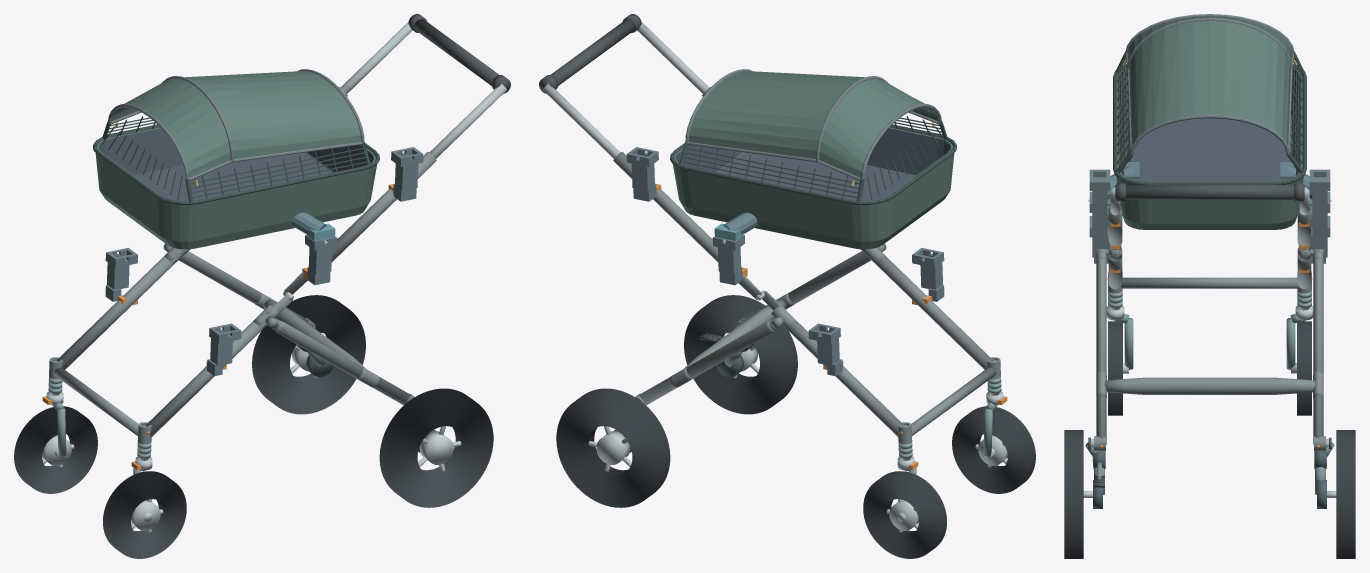
Rendered from S03_w550_state1_wheel_M.glb.
3 views of the same model, side by side, from view 1: azimuth 30°, elevation 25°; view 2: azimuth 150°, elevation 25°; view 3: azimuth 270°, elevation 25° (orthographic). The views are drawn at different scales.
Parts seen in each view (by area): view 1: S03_Cabin, RL_tire.002, RR_tire.002, FL_tire.002, FR_tire.002, main_lower_1.003, V46_rear_leg_-1.003, main_lower_-1.003, round_handle.002, main_upper_-1.003, Universal_Cabin_Receiver_H_-1, V46_rear_leg_1.003 (+10 smaller); view 2: S03_Cabin, RR_tire.002, RL_tire.002, FR_tire.002, FL_tire.002, main_lower_-1.003, V46_rear_leg_1.003, main_lower_1.003, round_handle.002, main_upper_1.003, Universal_Cabin_Receiver_H_1, V46_rear_leg_-1.003 (+10 smaller); view 3: S03_Cabin, V46_rearbar.003, RL_tire.002, round_handle.002, RR_tire.002, front_fixed_round_tube.002, V46_rear_leg_1.003, V46_rear_leg_-1.003, FL_tire.002, FR_tire.002, Universal_Cabin_Receiver_H_1, Universal_Cabin_Receiver_H_-1 (+9 smaller).
Part boxes in pixels (bbox=[...]): S03_Cabin: bbox=[93, 69, 379, 249]; RL_tire.002: bbox=[379, 388, 493, 507]; RR_tire.002: bbox=[252, 295, 365, 414]; FL_tire.002: bbox=[103, 471, 186, 558]; FR_tire.002: bbox=[14, 406, 97, 493]; main_lower_1.003: bbox=[56, 253, 181, 369]; V46_rear_leg_-1.003: bbox=[274, 320, 411, 405]; main_lower_-1.003: bbox=[145, 321, 265, 437]; round_handle.002: bbox=[414, 19, 509, 92]; main_upper_-1.003: bbox=[307, 152, 436, 268]; Universal_Cabin_Receiver_H_-1: bbox=[391, 147, 423, 201]; V46_rear_leg_1.003: bbox=[179, 251, 311, 325]; S03_Cabin: bbox=[670, 69, 956, 249]; RR_tire.002: bbox=[556, 388, 670, 507]; RL_tire.002: bbox=[684, 295, 797, 414]; FR_tire.002: bbox=[863, 471, 946, 558]; FL_tire.002: bbox=[952, 406, 1035, 493]; main_lower_-1.003: bbox=[868, 253, 993, 369]; V46_rear_leg_1.003: bbox=[638, 320, 775, 405]; main_lower_1.003: bbox=[784, 321, 904, 437]; round_handle.002: bbox=[540, 19, 635, 92]; main_upper_1.003: bbox=[613, 152, 742, 268]; Universal_Cabin_Receiver_H_1: bbox=[626, 147, 658, 201]; V46_rear_leg_-1.003: bbox=[738, 251, 870, 325]; S03_Cabin: bbox=[1113, 14, 1306, 229]; V46_rearbar.003: bbox=[1104, 377, 1315, 394]; RL_tire.002: bbox=[1064, 430, 1083, 558]; round_handle.002: bbox=[1115, 185, 1304, 199]; RR_tire.002: bbox=[1336, 430, 1355, 558]; front_fixed_round_tube.002: bbox=[1120, 277, 1299, 288]; V46_rear_leg_1.003: bbox=[1313, 256, 1323, 444]; V46_rear_leg_-1.003: bbox=[1096, 256, 1106, 444]; FL_tire.002: bbox=[1108, 321, 1122, 415]; FR_tire.002: bbox=[1297, 321, 1311, 415]; Universal_Cabin_Receiver_H_1: bbox=[1309, 169, 1330, 227]; Universal_Cabin_Receiver_H_-1: bbox=[1089, 169, 1110, 227].
Size of the model in its own units: 1.16 by 1.14 by 0.6771.
